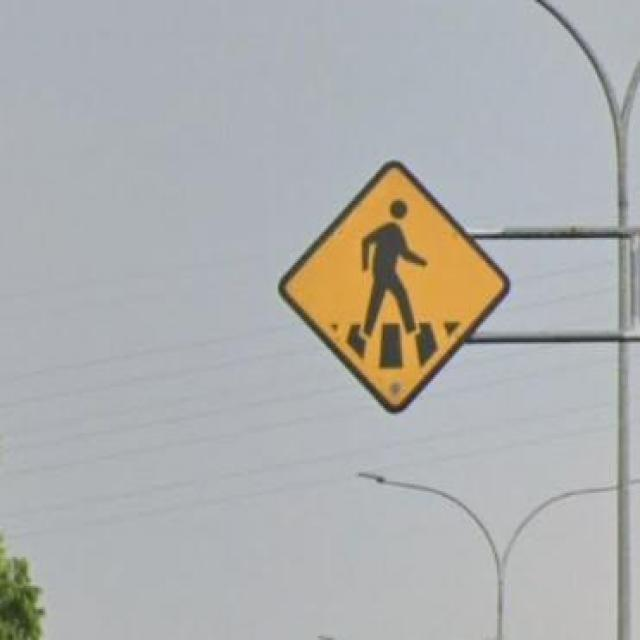traffic sign: (299, 161, 506, 401)
